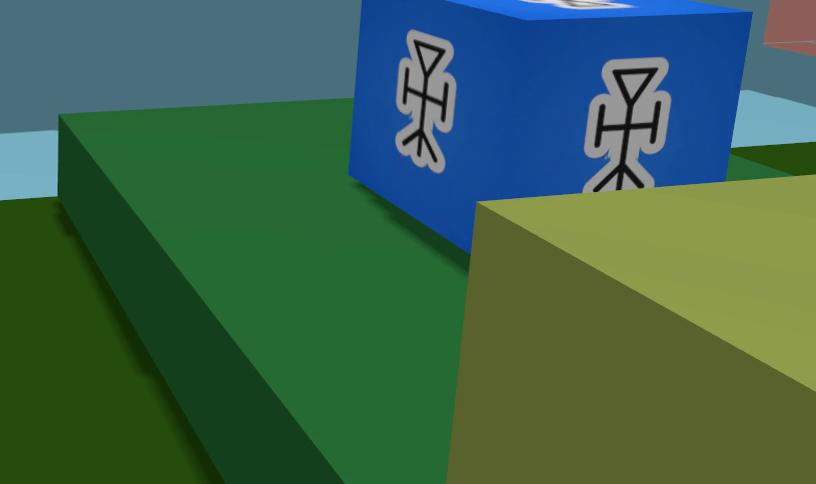KFS_REAL: (348, 0, 751, 250), (584, 57, 672, 192), (394, 31, 455, 171), (526, 0, 631, 8)
